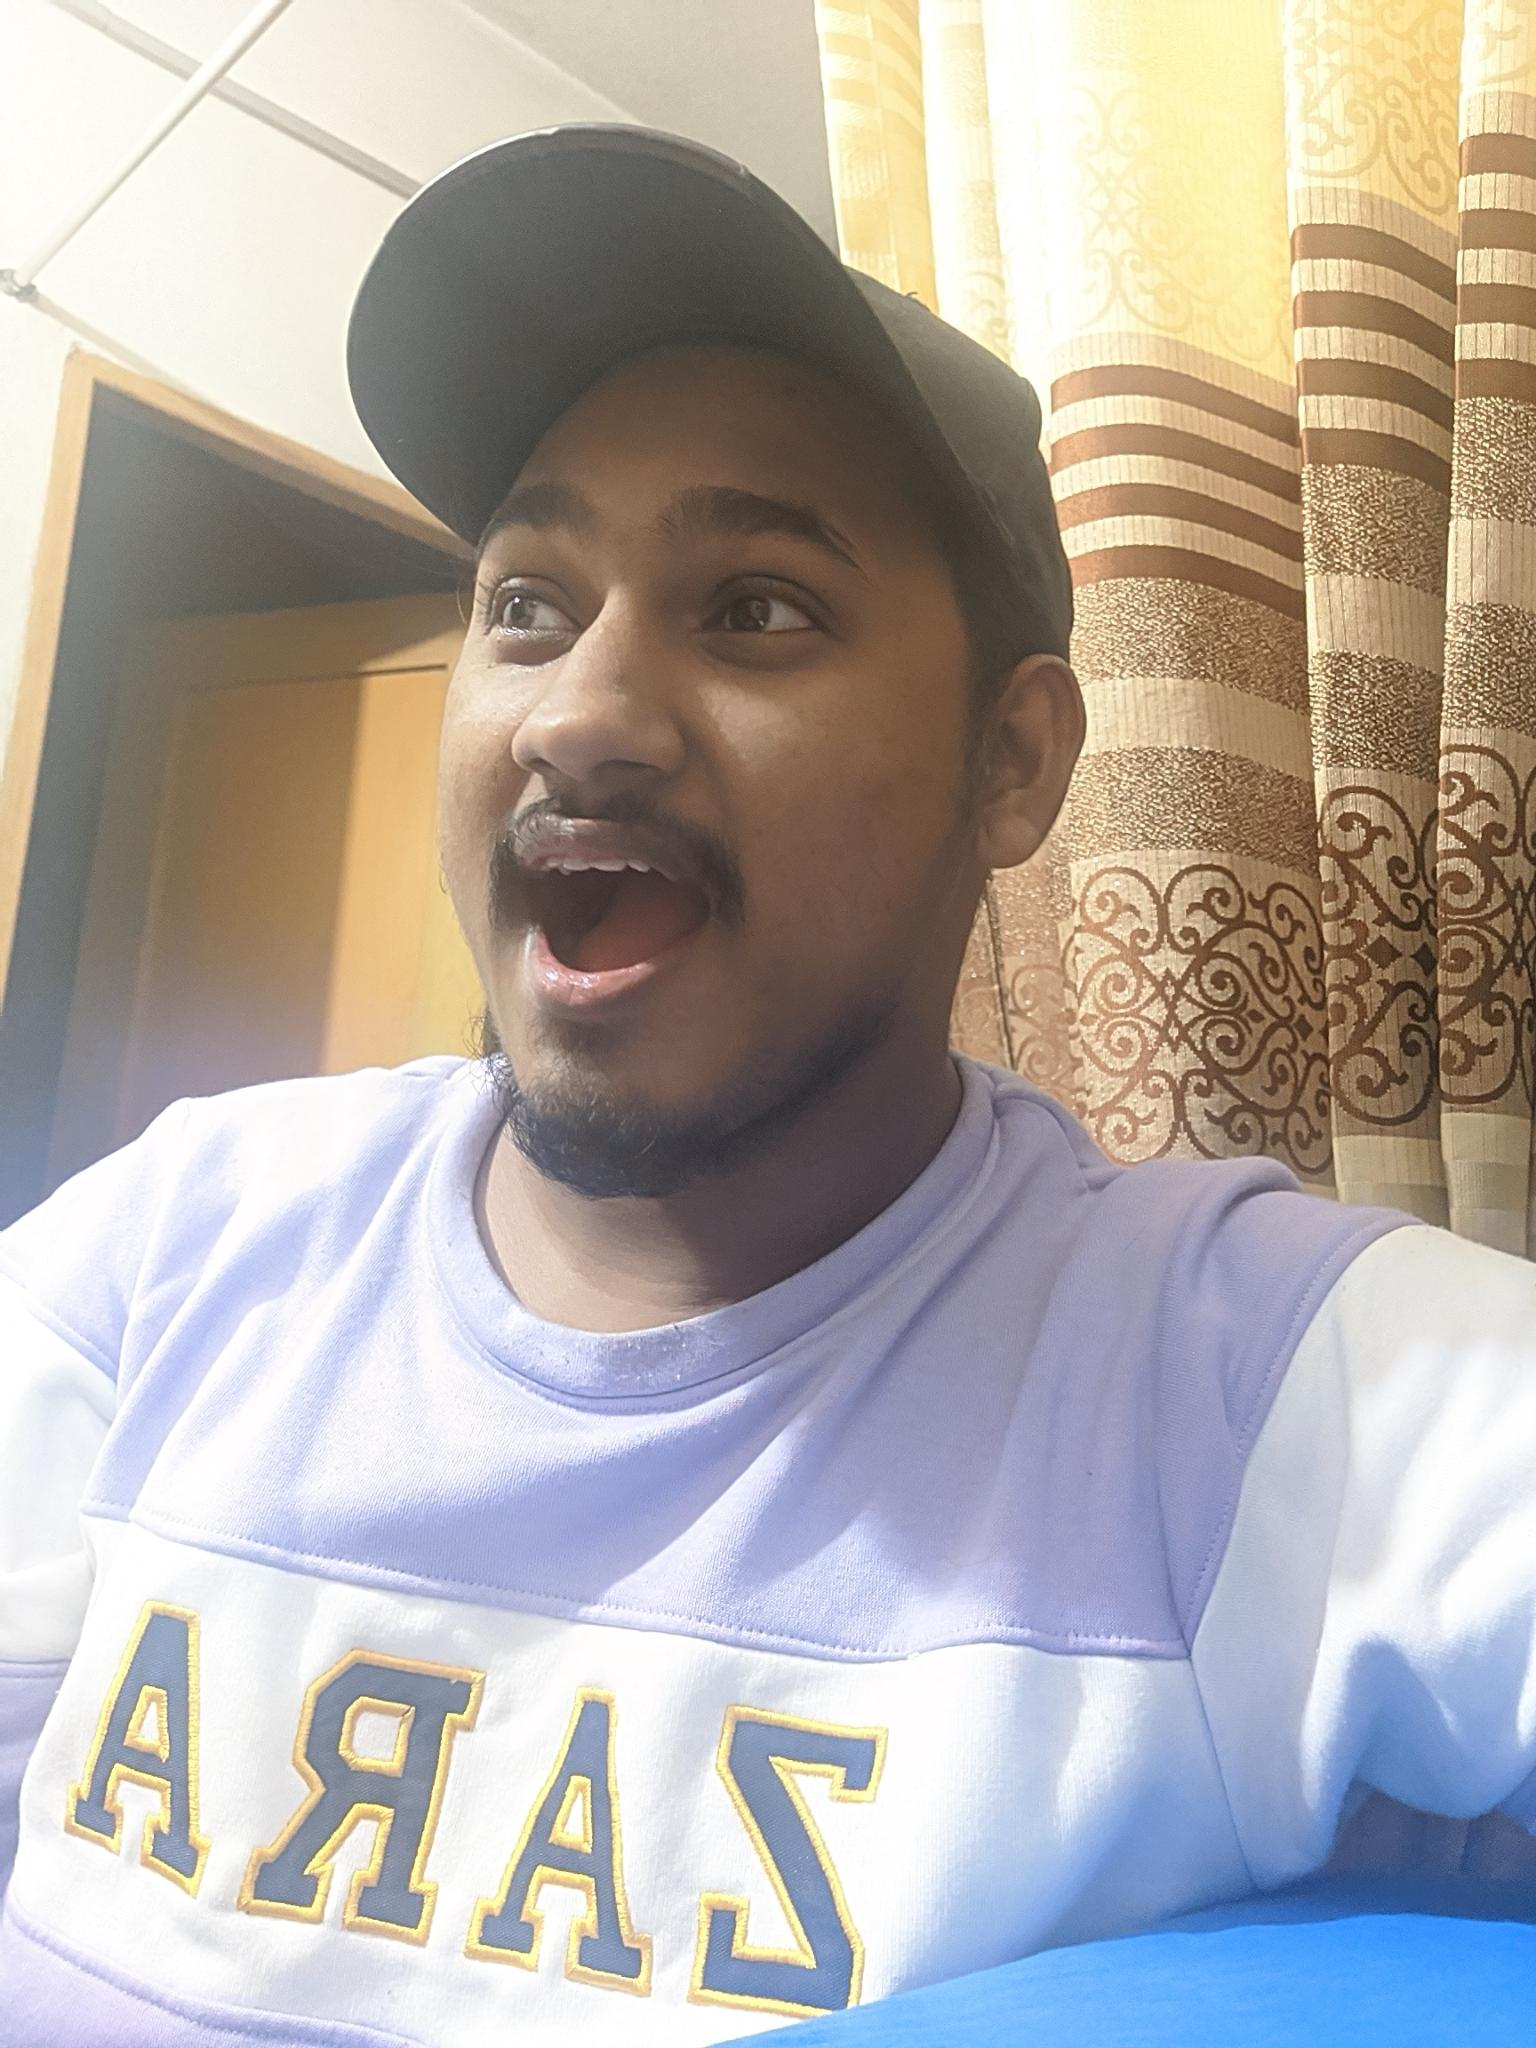Surprise: (344, 376, 925, 1187)
